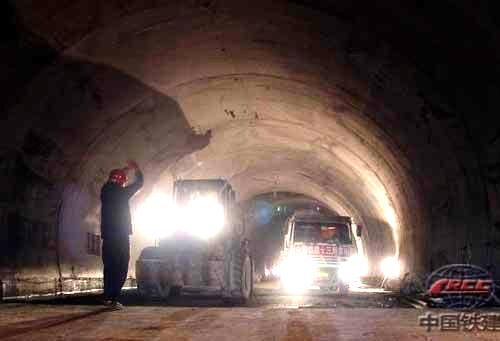helmet: (107, 169, 129, 187)
